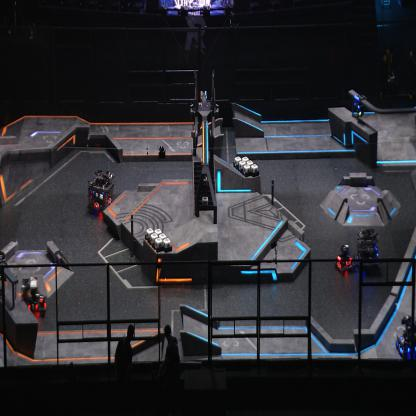car: (88, 170, 116, 218), (394, 313, 416, 361), (21, 275, 46, 317), (356, 227, 380, 269), (334, 243, 357, 273)
